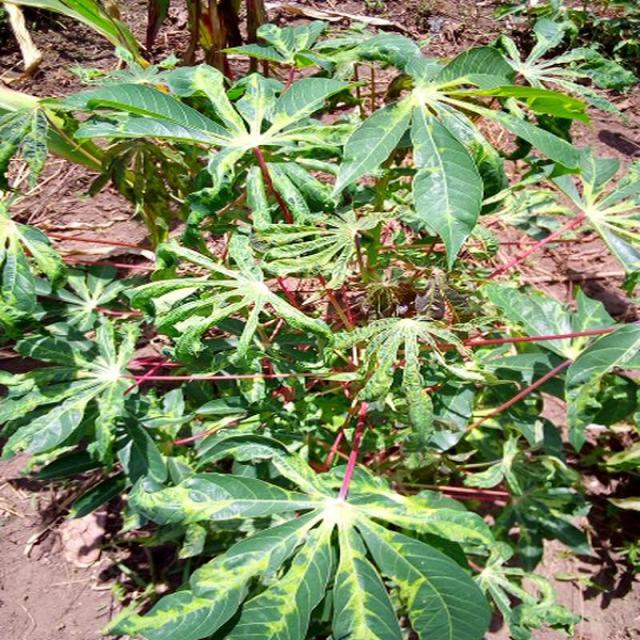cassava leaf: (104, 447, 498, 638), (409, 99, 484, 271)
